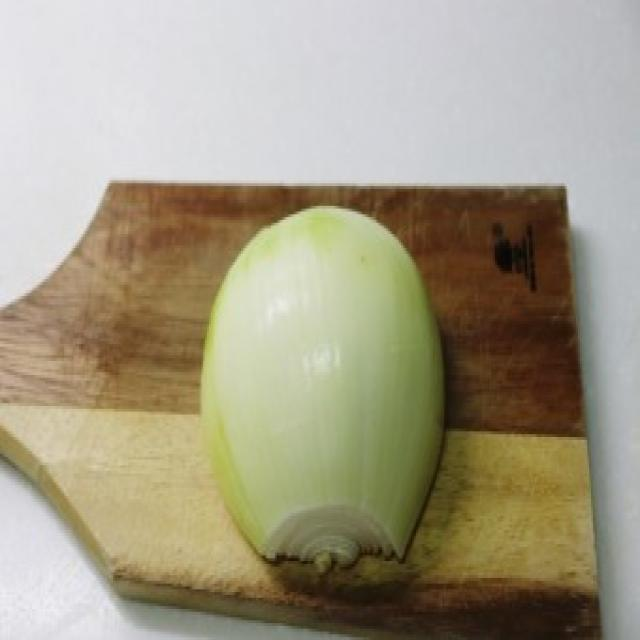onion: (195, 185, 460, 585)
